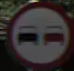No overtake: (6, 8, 66, 56)
